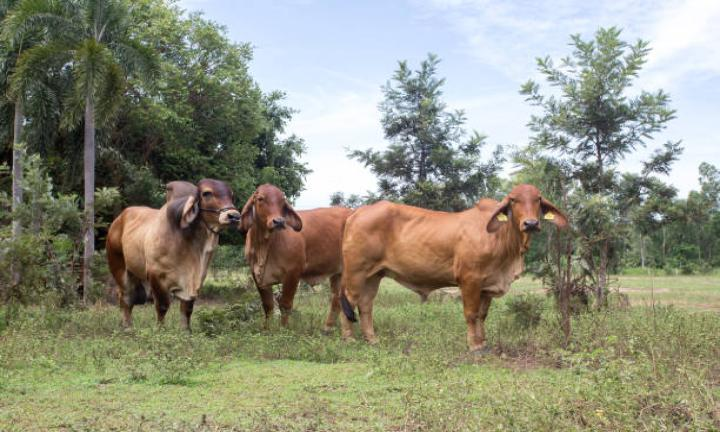Brahman: (344, 185, 567, 350), (106, 178, 239, 328), (106, 178, 239, 327), (239, 184, 353, 326)
